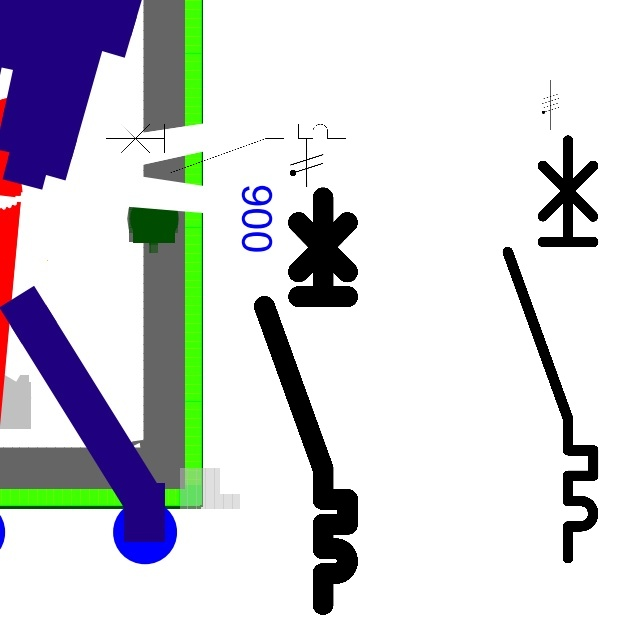interruptor_termomagnetico: (497, 129, 604, 568), (254, 187, 358, 614), (100, 118, 352, 179)
